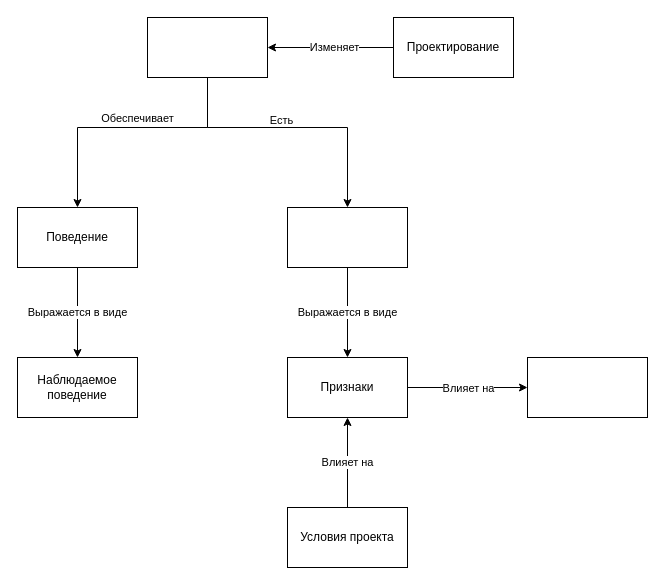
Some shapes in this 665 by 585 pixel diagram are drawn without their labels. Here are the shapes that lost their labels. From the top down, the centre of each, then its label:
pixel 207 47: Архитектура
pixel 347 237: Структура
pixel 587 387: Производительность труда
